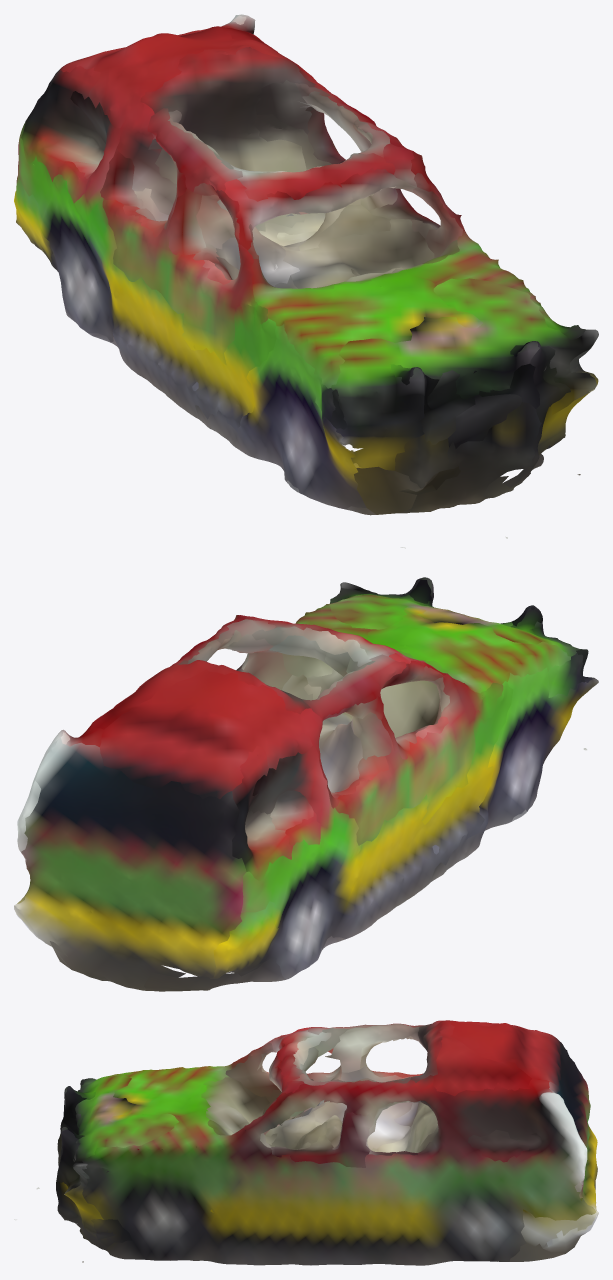
Rendered from jp_car.glb.
The picture shows the model from 3 angles, top to bottom: view 1: azimuth 30°, elevation 25°; view 2: azimuth 150°, elevation 25°; view 3: azimuth 270°, elevation 25°; orthographic projection. The views are drawn at different scales.
Visible parts, largest first — view 1: Object_2; view 2: Object_2; view 3: Object_2.
Boxes of the visible parts, left/top/right/bottom form: Object_2: left=14, top=14, right=598, bottom=548; Object_2: left=14, top=577, right=598, bottom=991; Object_2: left=14, top=1020, right=598, bottom=1265.
Bounding box in the file's own units: 0.0318 × 0.0308 × 0.0843.
1 material, 1 textured.
